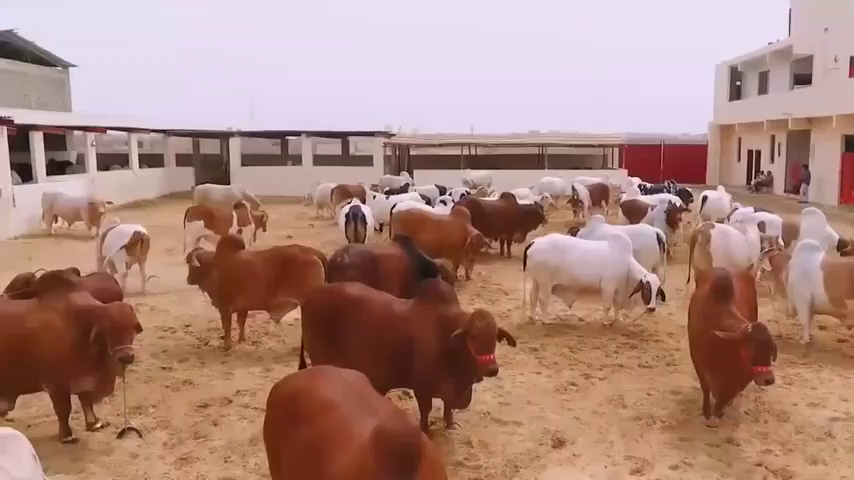bo: (309, 265, 513, 422), (256, 362, 456, 480), (1, 287, 133, 449), (684, 266, 782, 421), (180, 232, 320, 335), (530, 233, 665, 328), (333, 233, 451, 311), (769, 239, 854, 338), (393, 201, 490, 273), (750, 198, 852, 260), (681, 211, 763, 283), (461, 187, 544, 250), (87, 214, 157, 288), (35, 178, 110, 241), (617, 189, 689, 241), (185, 203, 265, 249), (4, 416, 58, 480), (189, 173, 263, 212), (334, 198, 383, 256), (315, 173, 379, 212), (635, 177, 695, 209), (696, 180, 734, 228), (568, 183, 611, 220), (373, 188, 424, 211), (414, 174, 454, 196)
